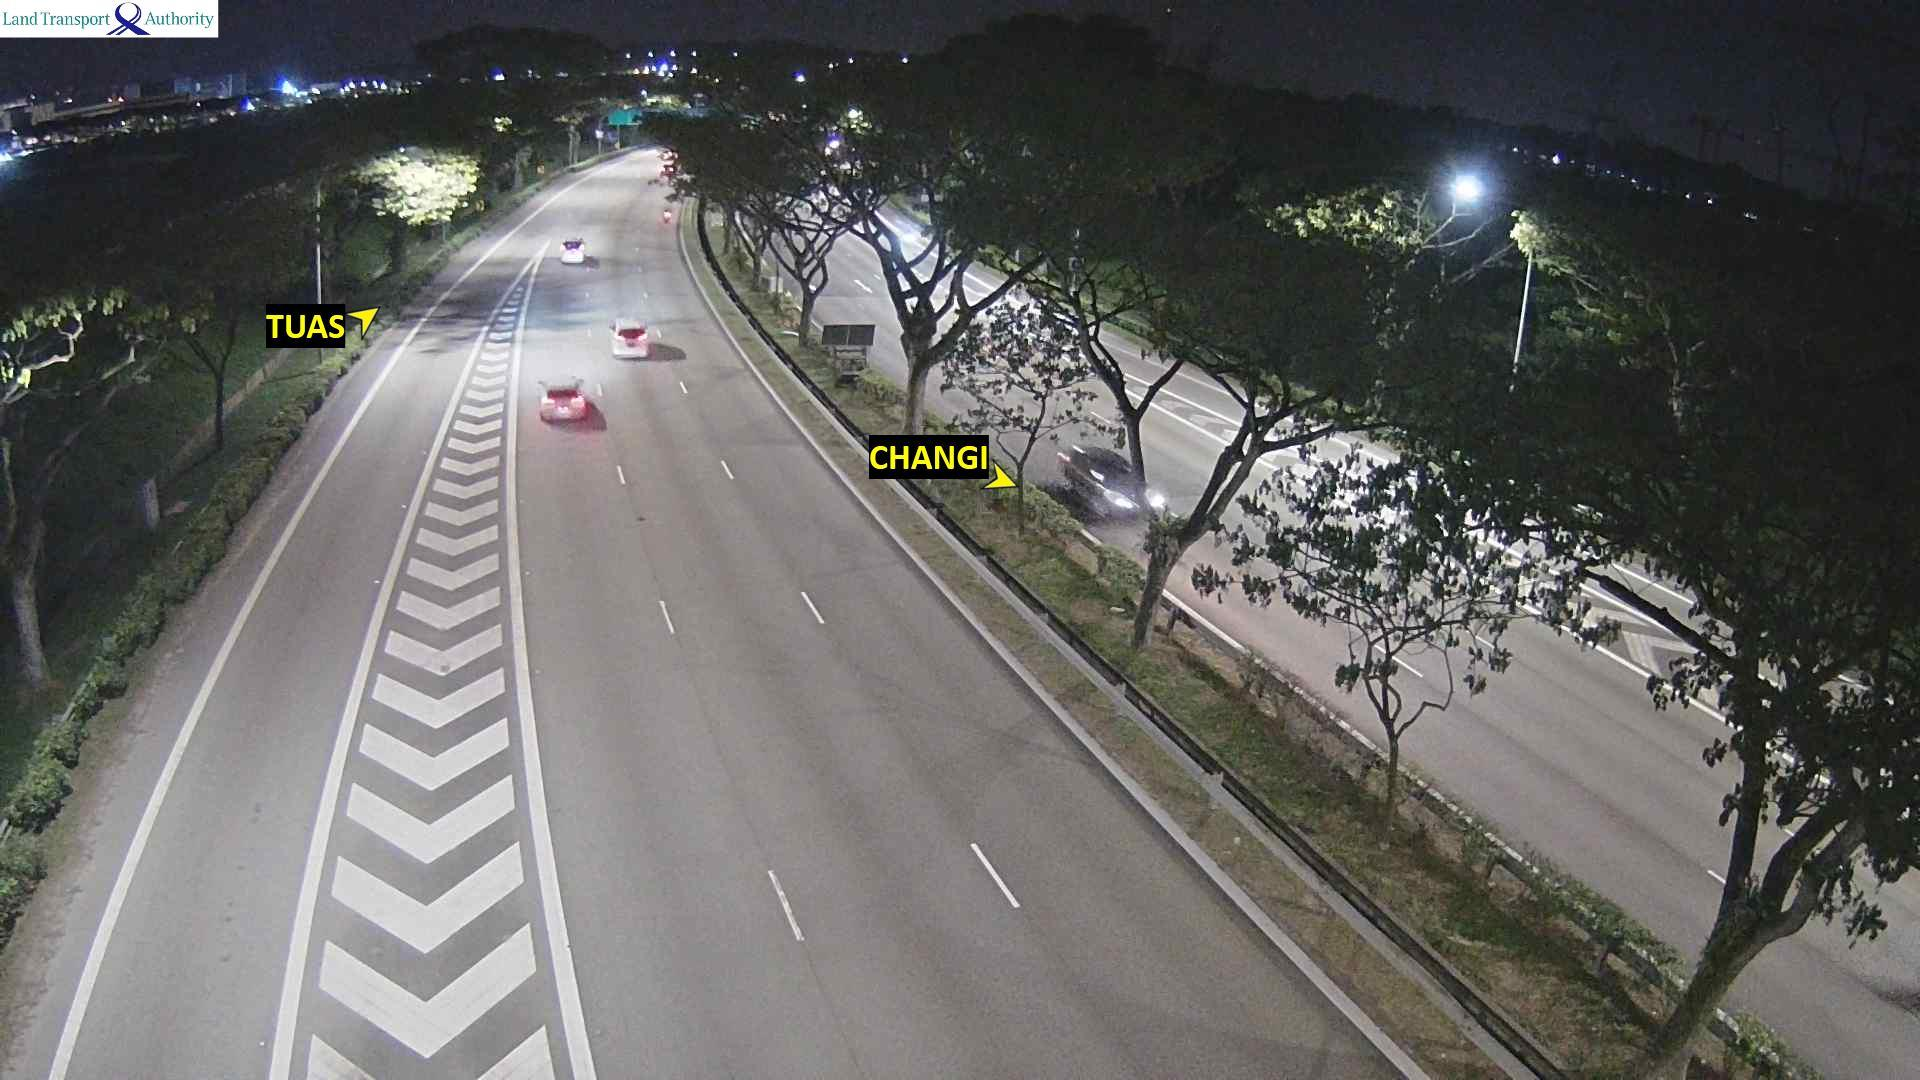cars: (1055, 442, 1166, 521), (535, 373, 588, 422), (609, 316, 650, 357), (559, 236, 585, 264), (657, 161, 679, 181), (654, 148, 682, 161), (659, 208, 673, 223)
